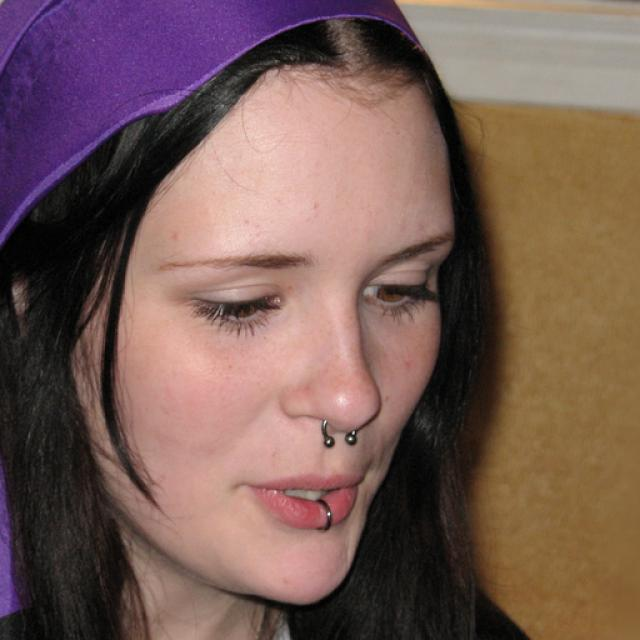sad: (75, 62, 452, 598)
